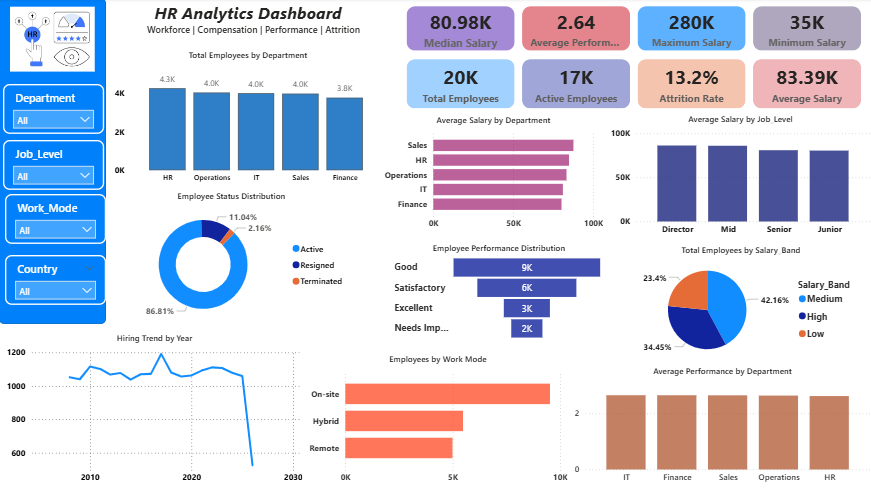

What the dashboard file says about the page in this screenshot:
{"tool":"powerbi","page":{"name":"HR Analysis","canvas":[1280,720],"ordinal":0},"visuals":[{"type":"cardVisual","fields":{"Data":["HR_Data.Total Employees","HR_Data.Active Employees","HR_Data.Attrition Rate","HR_Data.Average Salary"]},"box":[579.5,77.6,701,96.6],"z":0},{"type":"columnChart","fields":{"Category":["HR_Data.Department"],"Y":["HR_Data.Total Employees"]},"box":[163.9,74.6,401,206.3],"z":1000},{"type":"donutChart","title":"Employee Status Distribution","fields":{"Category":["HR_Data.Status"],"Y":["HR_Data.Total Employees"]},"box":[163.9,281,352.7,202],"z":2000},{"type":"lineChart","title":"Hiring Trend by Year","fields":{"Category":["HR_Data.Hire_Year"],"Y":["HR_Data.Total Employees"]},"box":[5.9,488.8,443.4,231.2],"z":3000},{"type":"cardVisual","fields":{"Data":["HR_Data.Median Salary","HR_Data.Average Performance","HR_Data.Maximum Salary","HR_Data.Minimum Salary"]},"box":[579.5,0,701,89.3],"z":4000},{"type":"shape","box":[0,0,156.6,477.1],"z":5000},{"type":"image","box":[16.1,11.7,124.4,96.6],"z":6000},{"type":"shape","box":[153.7,0,553.2,49.8],"z":7000},{"type":"textbox","box":[156.6,0,401,58.5],"z":8000},{"type":"clusteredColumnChart","fields":{"Category":["HR_Data.Job_Level"],"Y":["HR_Data.Average Salary"]},"box":[889.8,168.3,390.7,188.8],"z":9000},{"type":"barChart","fields":{"Category":["HR_Data.Department"],"Y":["HR_Data.Average Salary"]},"box":[557.6,169.8,332.2,178.5],"z":10000},{"type":"funnel","title":"Employee Performance Distribution","fields":{"Category":["HR_Data.Performance_Rating"],"Y":["HR_Data.Total Employees"]},"box":[573.7,357.1,316.1,147.8],"z":11000},{"type":"pieChart","fields":{"Category":["HR_Data.Salary_Band"],"Y":["HR_Data.Total Employees"]},"box":[898.5,360,374.6,177.1],"z":12000},{"type":"columnChart","fields":{"Category":["HR_Data.Department"],"Y":["HR_Data.Average Performance"]},"box":[837.1,537.1,443.4,182.9],"z":13000},{"type":"barChart","title":"Employees by Work Mode","fields":{"Y":["HR_Data.Total Employees"],"Category":["HR_Data.Work_Mode"]},"box":[447.8,519.5,389.3,200.5],"z":14000},{"type":"slicer","fields":{"Values":["HR_Data.Department"]},"box":[5.9,125.9,147.8,73.2],"z":15000},{"type":"slicer","fields":{"Values":["HR_Data.Job_Level"]},"box":[5.9,207.8,147.8,73.2],"z":16000},{"type":"slicer","fields":{"Values":["HR_Data.Work_Mode"]},"box":[8.8,286.8,147.8,73.2],"z":17000},{"type":"slicer","fields":{"Values":["HR_Data.Country"]},"box":[8.8,376.1,147.8,73.2],"z":18000}]}

Visuals, with their boxes in screenshot pixels (x1, y1, x2, y2), scaled from the page's 1280x720 canvas onto the 871x490 screenshot:
cardVisual - HR_Data.Total Employees x HR_Data.Active Employees: rect(394, 53, 870, 119)
columnChart - HR_Data.Department x HR_Data.Total Employees: rect(112, 51, 384, 191)
"Employee Status Distribution" donutChart: rect(112, 191, 352, 329)
"Hiring Trend by Year" lineChart: rect(4, 333, 306, 489)
cardVisual - HR_Data.Median Salary x HR_Data.Average Performance: rect(394, 0, 870, 61)
shape: rect(0, 0, 107, 325)
image: rect(11, 8, 96, 74)
shape: rect(105, 0, 481, 34)
textbox: rect(107, 0, 379, 40)
clusteredColumnChart - HR_Data.Job_Level x HR_Data.Average Salary: rect(605, 115, 870, 243)
barChart - HR_Data.Department x HR_Data.Average Salary: rect(379, 116, 605, 237)
"Employee Performance Distribution" funnel: rect(390, 243, 605, 344)
pieChart - HR_Data.Salary_Band x HR_Data.Total Employees: rect(611, 245, 866, 366)
columnChart - HR_Data.Department x HR_Data.Average Performance: rect(570, 366, 870, 489)
"Employees by Work Mode" barChart: rect(305, 354, 570, 489)
slicer - HR_Data.Department: rect(4, 86, 105, 135)
slicer - HR_Data.Job_Level: rect(4, 141, 105, 191)
slicer - HR_Data.Work_Mode: rect(6, 195, 107, 245)
slicer - HR_Data.Country: rect(6, 256, 107, 306)
